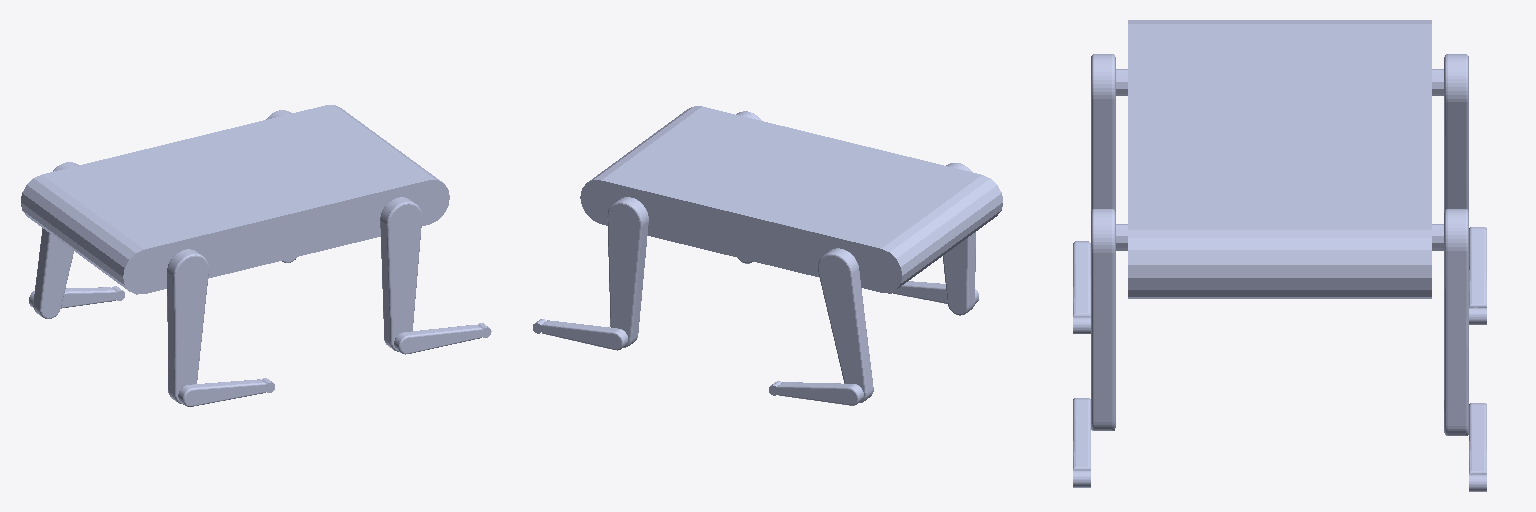
robot.urdf — quadraped_urdf:
<?xml version="1.0" encoding="utf-8"?>
<!-- This URDF was automatically created by SolidWorks to URDF Exporter! Originally created by [author] ([email redacted]) 
     Commit Version: 1.6.0-1-g15f4949  Build Version: 1.6.7594.29634
     For more information, please see http://wiki.ros.org/sw_urdf_exporter -->
<robot
  name="quadraped_urdf">
  <link
    name="base_link">
    <inertial>
      <origin
        xyz="0.21550981967809 -0.340344569380118 0.224789268166575"
        rpy="0 0 0" />
      <mass
        value="6.7386669726753" />
      <inertia
        ixx="0.0374723759532097"
        ixy="-1.21760986167806E-17"
        ixz="1.7523347026718E-18"
        iyy="0.11471012710447"
        iyz="1.82421277174694E-18"
        izz="0.148262403911914" />
    </inertial>
    <visual>
      <origin
        xyz="0 0 0"
        rpy="0 0 0" />
      <geometry>
        <mesh
          filename="package://quadraped_urdf/meshes/base_link.STL" />
      </geometry>
      <material
        name="">
        <color
          rgba="0.792156862745098 0.819607843137255 0.933333333333333 1" />
      </material>
    </visual>
    <collision>
      <origin
        xyz="0 0 0"
        rpy="0 0 0" />
      <geometry>
        <mesh
          filename="package://quadraped_urdf/meshes/base_link.STL" />
      </geometry>
    </collision>
  </link>
  <link
    name="base_link1">
    <inertial>
      <origin
        xyz="0.0708744638155123 -0.00066611717161702 0.0197891829920333"
        rpy="0 0 0" />
      <mass
        value="0.150184104059423" />
      <inertia
        ixx="2.61969818535675E-05"
        ixy="4.00655713684365E-06"
        ixz="-3.41353147423397E-07"
        iyy="0.000447294942960443"
        iyz="3.12157506249931E-09"
        izz="0.00046331168625474" />
    </inertial>
    <visual>
      <origin
        xyz="0 0 0"
        rpy="0 0 0" />
      <geometry>
        <mesh
          filename="package://quadraped_urdf/meshes/base_link1.STL" />
      </geometry>
      <material
        name="">
        <color
          rgba="0.792156862745098 0.819607843137255 0.933333333333333 1" />
      </material>
    </visual>
    <collision>
      <origin
        xyz="0 0 0"
        rpy="0 0 0" />
      <geometry>
        <mesh
          filename="package://quadraped_urdf/meshes/base_link1.STL" />
      </geometry>
    </collision>
  </link>
  <joint
    name="limb1"
    type="revolute">
    <origin
      xyz="0.36551 -0.17534 0.22479"
      rpy="1.5708 1.5289 0" />
    <parent
      link="base_link" />
    <child
      link="base_link1" />
    <axis
      xyz="0 0 1" />
    <limit
      lower="-3.14"
      upper="3.14"
      effort="0"
      velocity="0" />
    <mimic
      joint="limb2"
      multiplier="1"
      offset="0" />
  </joint>
  <link
    name="child1">
    <inertial>
      <origin
        xyz="-0.0423421337754569 3.23721888045858E-08 -0.00243980435674557"
        rpy="0 0 0" />
      <mass
        value="0.0326105791113412" />
      <inertia
        ixx="1.71789785370535E-06"
        ixy="4.93041347085335E-11"
        ixz="-8.31546053527796E-08"
        iyy="3.40028737248651E-05"
        iyz="-4.45808142197675E-12"
        izz="3.45304858852383E-05" />
    </inertial>
    <visual>
      <origin
        xyz="0 0 0"
        rpy="0 0 0" />
      <geometry>
        <mesh
          filename="package://quadraped_urdf/meshes/child1.STL" />
      </geometry>
      <material
        name="">
        <color
          rgba="0.792156862745098 0.819607843137255 0.933333333333333 1" />
      </material>
    </visual>
    <collision>
      <origin
        xyz="0 0 0"
        rpy="0 0 0" />
      <geometry>
        <mesh
          filename="package://quadraped_urdf/meshes/child1.STL" />
      </geometry>
    </collision>
  </link>
  <joint
    name="leg1"
    type="revolute">
    <origin
      xyz="0.1615 -0.0015252 0"
      rpy="3.1416 0 -1.6806" />
    <parent
      link="base_link1" />
    <child
      link="child1" />
    <axis
      xyz="0 0 1" />
    <limit
      lower="-3.14"
      upper="3.14"
      effort="0"
      velocity="0" />
  </joint>
  <link
    name="c1">
    <inertial>
      <origin
        xyz="0 1.66533453693773E-16 0.0025"
        rpy="0 0 0" />
      <mass
        value="0.0023090706003885" />
      <inertia
        ixx="7.15811886120433E-08"
        ixy="0"
        ixz="-3.44598368043906E-24"
        iyy="7.15811886120433E-08"
        iyz="6.63774731942189E-26"
        izz="5.65722297095182E-08" />
    </inertial>
    <visual>
      <origin
        xyz="0 0 0"
        rpy="0 0 0" />
      <geometry>
        <mesh
          filename="package://quadraped_urdf/meshes/c1.STL" />
      </geometry>
      <material
        name="">
        <color
          rgba="0.792156862745098 0.819607843137255 0.933333333333333 1" />
      </material>
    </visual>
    <collision>
      <origin
        xyz="0 0 0"
        rpy="0 0 0" />
      <geometry>
        <mesh
          filename="package://quadraped_urdf/meshes/c1.STL" />
      </geometry>
    </collision>
  </link>
  <joint
    name="w1"
    type="fixed">
    <origin
      xyz="-0.11024 0 0"
      rpy="3.1416 0 -1.6883" />
    <parent
      link="child1" />
    <child
      link="c1" />
    <axis
      xyz="0 0 0" />
  </joint>
  <link
    name="base_link2">
    <inertial>
      <origin
        xyz="0.0708744638155124 -0.00066611717161693 0.0197891829920334"
        rpy="0 0 0" />
      <mass
        value="0.150184104059423" />
      <inertia
        ixx="2.61969818535675E-05"
        ixy="4.00655713684331E-06"
        ixz="-3.41353147423415E-07"
        iyy="0.000447294942960443"
        iyz="3.12157506250433E-09"
        izz="0.00046331168625474" />
    </inertial>
    <visual>
      <origin
        xyz="0 0 0"
        rpy="0 0 0" />
      <geometry>
        <mesh
          filename="package://quadraped_urdf/meshes/base_link2.STL" />
      </geometry>
      <material
        name="">
        <color
          rgba="0.792156862745098 0.819607843137255 0.933333333333333 1" />
      </material>
    </visual>
    <collision>
      <origin
        xyz="0 0 0"
        rpy="0 0 0" />
      <geometry>
        <mesh
          filename="package://quadraped_urdf/meshes/base_link2.STL" />
      </geometry>
    </collision>
  </link>
  <joint
    name="limb2"
    type="revolute">
    <origin
      xyz="0.06551 -0.17534 0.22479"
      rpy="-1.5708 1.3877 -3.1416" />
    <parent
      link="base_link" />
    <child
      link="base_link2" />
    <axis
      xyz="0 0 1" />
    <limit
      lower="-3.14"
      upper="3.14"
      effort="0"
      velocity="0" />
  </joint>
  <link
    name="child2">
    <inertial>
      <origin
        xyz="-0.0423421341026917 3.08249994140919E-08 -0.00243980328545562"
        rpy="0 0 0" />
      <mass
        value="0.0326105793021524" />
      <inertia
        ixx="1.71789761243841E-06"
        ixy="4.80070961770446E-11"
        ixz="-8.31542142482826E-08"
        iyy="3.40028743633875E-05"
        iyz="-4.5154664715856E-12"
        izz="3.45304862728481E-05" />
    </inertial>
    <visual>
      <origin
        xyz="0 0 0"
        rpy="0 0 0" />
      <geometry>
        <mesh
          filename="package://quadraped_urdf/meshes/child2.STL" />
      </geometry>
      <material
        name="">
        <color
          rgba="0.792156862745098 0.819607843137255 0.933333333333333 1" />
      </material>
    </visual>
    <collision>
      <origin
        xyz="0 0 0"
        rpy="0 0 0" />
      <geometry>
        <mesh
          filename="package://quadraped_urdf/meshes/child2.STL" />
      </geometry>
    </collision>
  </link>
  <joint
    name="leg2"
    type="revolute">
    <origin
      xyz="0.1615 -0.0015252 0"
      rpy="3.1416 0 -1.5399" />
    <parent
      link="base_link2" />
    <child
      link="child2" />
    <axis
      xyz="0 0 1" />
    <limit
      lower="-3.14"
      upper="3.14"
      effort="0"
      velocity="0" />
  </joint>
  <link
    name="c2">
    <inertial>
      <origin
        xyz="-6.93889390390723E-18 1.38777878078145E-16 0.00250000000000003"
        rpy="0 0 0" />
      <mass
        value="0.0023090706003885" />
      <inertia
        ixx="7.15811886120433E-08"
        ixy="-8.27180612553028E-25"
        ixz="-1.66699370238415E-24"
        iyy="7.15811886120433E-08"
        iyz="2.84129320460458E-26"
        izz="5.65722297095182E-08" />
    </inertial>
    <visual>
      <origin
        xyz="0 0 0"
        rpy="0 0 0" />
      <geometry>
        <mesh
          filename="package://quadraped_urdf/meshes/c2.STL" />
      </geometry>
      <material
        name="">
        <color
          rgba="0.792156862745098 0.819607843137255 0.933333333333333 1" />
      </material>
    </visual>
    <collision>
      <origin
        xyz="0 0 0"
        rpy="0 0 0" />
      <geometry>
        <mesh
          filename="package://quadraped_urdf/meshes/c2.STL" />
      </geometry>
    </collision>
  </link>
  <joint
    name="w2"
    type="fixed">
    <origin
      xyz="-0.11024 0 0"
      rpy="3.1416 0 1.2772" />
    <parent
      link="child2" />
    <child
      link="c2" />
    <axis
      xyz="0 0 0" />
  </joint>
  <link
    name="base_link3">
    <inertial>
      <origin
        xyz="0.0708744638155124 -0.00066611717161702 -0.0102108170079667"
        rpy="0 0 0" />
      <mass
        value="0.150184104059423" />
      <inertia
        ixx="2.61969818535675E-05"
        ixy="4.00655713684386E-06"
        ixz="-3.41353147423429E-07"
        iyy="0.000447294942960443"
        iyz="3.12157506250925E-09"
        izz="0.00046331168625474" />
    </inertial>
    <visual>
      <origin
        xyz="0 0 0"
        rpy="0 0 0" />
      <geometry>
        <mesh
          filename="package://quadraped_urdf/meshes/base_link3.STL" />
      </geometry>
      <material
        name="">
        <color
          rgba="0.792156862745098 0.819607843137255 0.933333333333333 1" />
      </material>
    </visual>
    <collision>
      <origin
        xyz="0 0 0"
        rpy="0 0 0" />
      <geometry>
        <mesh
          filename="package://quadraped_urdf/meshes/base_link3.STL" />
      </geometry>
    </collision>
  </link>
  <joint
    name="limb3"
    type="revolute">
    <origin
      xyz="0.06551 -0.47534 0.22479"
      rpy="1.5708 1.5101 -3.1416" />
    <parent
      link="base_link" />
    <child
      link="base_link3" />
    <axis
      xyz="0 0 1" />
    <limit
      lower="-3.14"
      upper="3.14"
      effort="0"
      velocity="0" />
  </joint>
  <link
    name="child3">
    <inertial>
      <origin
        xyz="-0.0423421379761998 1.37530411781217E-08 0.00756020849189848"
        rpy="0 0 0" />
      <mass
        value="0.0326105815981048" />
      <inertia
        ixx="1.71789597223259E-06"
        ixy="3.36606727950767E-11"
        ixz="-8.31499215068541E-08"
        iyy="3.40028817328098E-05"
        iyz="-4.79604593391368E-12"
        izz="3.45304918922E-05" />
    </inertial>
    <visual>
      <origin
        xyz="0 0 0"
        rpy="0 0 0" />
      <geometry>
        <mesh
          filename="package://quadraped_urdf/meshes/child3.STL" />
      </geometry>
      <material
        name="">
        <color
          rgba="0.792156862745098 0.819607843137255 0.933333333333333 1" />
      </material>
    </visual>
    <collision>
      <origin
        xyz="0 0 0"
        rpy="0 0 0" />
      <geometry>
        <mesh
          filename="package://quadraped_urdf/meshes/child3.STL" />
      </geometry>
    </collision>
  </link>
  <joint
    name="leg3"
    type="revolute">
    <origin
      xyz="0.1615 -0.0015252 -0.02"
      rpy="3.1416 0 1.6152" />
    <parent
      link="base_link3" />
    <child
      link="child3" />
    <axis
      xyz="0 0 1" />
    <limit
      lower="-3.14"
      upper="3.14"
      effort="0"
      velocity="0" />
  </joint>
  <link
    name="c3">
    <inertial>
      <origin
        xyz="0 2.77555756156289E-17 -0.00750000000000001"
        rpy="0 0 0" />
      <mass
        value="0.0023090706003885" />
      <inertia
        ixx="7.15811886120436E-08"
        ixy="0"
        ixz="-1.17226931405602E-38"
        iyy="7.15811886120436E-08"
        iyz="-1.36748047209095E-38"
        izz="5.65722297095183E-08" />
    </inertial>
    <visual>
      <origin
        xyz="0 0 0"
        rpy="0 0 0" />
      <geometry>
        <mesh
          filename="package://quadraped_urdf/meshes/c3.STL" />
      </geometry>
      <material
        name="">
        <color
          rgba="0.792156862745098 0.819607843137255 0.933333333333333 1" />
      </material>
    </visual>
    <collision>
      <origin
        xyz="0 0 0"
        rpy="0 0 0" />
      <geometry>
        <mesh
          filename="package://quadraped_urdf/meshes/c3.STL" />
      </geometry>
    </collision>
  </link>
  <joint
    name="w3"
    type="fixed">
    <origin
      xyz="-0.11024 0 0"
      rpy="3.1416 0 -1.214" />
    <parent
      link="child3" />
    <child
      link="c3" />
    <axis
      xyz="0 0 0" />
  </joint>
  <link
    name="base_link4">
    <inertial>
      <origin
        xyz="0.0708744638155123 -0.000666117171616964 -0.0102108170079667"
        rpy="0 0 0" />
      <mass
        value="0.150184104059423" />
      <inertia
        ixx="2.61969818535675E-05"
        ixy="4.0065571368437E-06"
        ixz="-3.41353147423419E-07"
        iyy="0.000447294942960443"
        iyz="3.12157506250382E-09"
        izz="0.00046331168625474" />
    </inertial>
    <visual>
      <origin
        xyz="0 0 0"
        rpy="0 0 0" />
      <geometry>
        <mesh
          filename="package://quadraped_urdf/meshes/base_link4.STL" />
      </geometry>
      <material
        name="">
        <color
          rgba="0.792156862745098 0.819607843137255 0.933333333333333 1" />
      </material>
    </visual>
    <collision>
      <origin
        xyz="0 0 0"
        rpy="0 0 0" />
      <geometry>
        <mesh
          filename="package://quadraped_urdf/meshes/base_link4.STL" />
      </geometry>
    </collision>
  </link>
  <joint
    name="limb4"
    type="revolute">
    <origin
      xyz="0.36551 -0.47534 0.22479"
      rpy="1.5708 1.5337 -3.1416" />
    <parent
      link="base_link" />
    <child
      link="base_link4" />
    <axis
      xyz="0 0 1" />
    <limit
      lower="-3.14"
      upper="3.14"
      effort="0"
      velocity="0" />
  </joint>
  <link
    name="child4">
    <inertial>
      <origin
        xyz="-0.0423421389689371 1.30603164116838E-08 0.00756020895647952"
        rpy="0 0 0" />
      <mass
        value="0.0326105822893683" />
      <inertia
        ixx="1.71789599953009E-06"
        ixy="3.29731955808396E-11"
        ixz="-8.3149646172784E-08"
        iyy="3.40028833498438E-05"
        iyz="-4.7715354448297E-12"
        izz="3.45304935070882E-05" />
    </inertial>
    <visual>
      <origin
        xyz="0 0 0"
        rpy="0 0 0" />
      <geometry>
        <mesh
          filename="package://quadraped_urdf/meshes/child4.STL" />
      </geometry>
      <material
        name="">
        <color
          rgba="0.792156862745098 0.819607843137255 0.933333333333333 1" />
      </material>
    </visual>
    <collision>
      <origin
        xyz="0 0 0"
        rpy="0 0 0" />
      <geometry>
        <mesh
          filename="package://quadraped_urdf/meshes/child4.STL" />
      </geometry>
    </collision>
  </link>
  <joint
    name="leg4"
    type="revolute">
    <origin
      xyz="0.1615 -0.0015252 -0.02"
      rpy="3.1416 0 1.6097" />
    <parent
      link="base_link4" />
    <child
      link="child4" />
    <axis
      xyz="0 0 1" />
    <limit
      lower="-3.14"
      upper="3.14"
      effort="0"
      velocity="0" />
  </joint>
  <link
    name="c4">
    <inertial>
      <origin
        xyz="-9.71445146547012E-17 1.66533453693773E-16 -0.00750000000000001"
        rpy="0 0 0" />
      <mass
        value="0.0023090706003885" />
      <inertia
        ixx="7.15811886120436E-08"
        ixy="0"
        ixz="3.41047606668471E-24"
        iyy="7.15811886120436E-08"
        iyz="2.29132470882498E-26"
        izz="5.65722297095183E-08" />
    </inertial>
    <visual>
      <origin
        xyz="0 0 0"
        rpy="0 0 0" />
      <geometry>
        <mesh
          filename="package://quadraped_urdf/meshes/c4.STL" />
      </geometry>
      <material
        name="">
        <color
          rgba="0.792156862745098 0.819607843137255 0.933333333333333 1" />
      </material>
    </visual>
    <collision>
      <origin
        xyz="0 0 0"
        rpy="0 0 0" />
      <geometry>
        <mesh
          filename="package://quadraped_urdf/meshes/c4.STL" />
      </geometry>
    </collision>
  </link>
  <joint
    name="w4"
    type="fixed">
    <origin
      xyz="-0.11024 0 0"
      rpy="3.1416 0 -1.243" />
    <parent
      link="child4" />
    <child
      link="c4" />
    <axis
      xyz="0 0 0" />
  </joint>
</robot>

--- What the picture shows (computed from the rendered views, not written in the file) ---
The picture shows the robot from 3 angles, left to right: view 1: azimuth 30°, elevation 25°; view 2: azimuth 150°, elevation 25°; view 3: azimuth 270°, elevation 25°; orthographic projection.
Model quadraped_urdf with 13 links and 12 joints (8 revolute, 4 fixed), rooted at base_link, posed every joint at zero.
Links seen in each view (by area): view 1: base_link, base_link3, base_link4, base_link2, child4, child3, child2; view 2: base_link, base_link2, base_link1, base_link3, child1, child2, child3; view 3: base_link, base_link1, base_link4, base_link2, base_link3, child2, child3, child4, child1.
Boxes of the visible links, x1=… form: base_link: x1=21, y1=105, x2=449, y2=294; base_link3: x1=167, y1=249, x2=208, y2=404; base_link4: x1=380, y1=197, x2=421, y2=351; base_link2: x1=33, y1=162, x2=78, y2=318; child4: x1=394, y1=325, x2=482, y2=354; child3: x1=178, y1=379, x2=266, y2=406; child2: x1=29, y1=287, x2=116, y2=308; base_link: x1=580, y1=106, x2=1002, y2=292; base_link2: x1=818, y1=248, x2=873, y2=402; base_link1: x1=607, y1=197, x2=648, y2=347; base_link3: x1=943, y1=163, x2=975, y2=315; child1: x1=541, y1=320, x2=627, y2=350; child2: x1=777, y1=382, x2=863, y2=405; child3: x1=893, y1=281, x2=978, y2=303; base_link: x1=1116, y1=20, x2=1443, y2=298; base_link1: x1=1444, y1=209, x2=1468, y2=435; base_link4: x1=1091, y1=209, x2=1115, y2=430; base_link2: x1=1444, y1=54, x2=1468, y2=211; base_link3: x1=1091, y1=54, x2=1115, y2=211; child2: x1=1469, y1=227, x2=1486, y2=307; child3: x1=1073, y1=241, x2=1090, y2=316; child4: x1=1073, y1=398, x2=1090, y2=469; child1: x1=1469, y1=403, x2=1486, y2=473.
Bounding box of the posed robot: 0.5022 × 0.34 × 0.2122 m (x, y, z).
13 mesh visuals loaded from 13 distinct referenced files (13 binary STL).